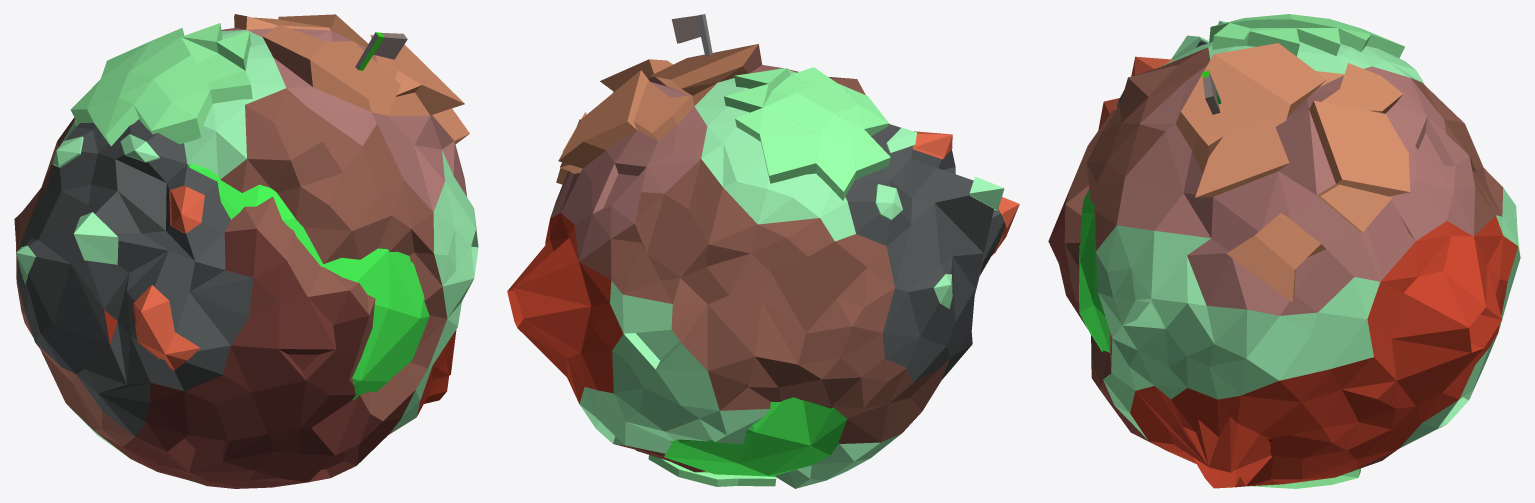
File: planet2b.fbx
The picture shows the model from 3 angles, left to right: view 1: azimuth 30°, elevation 25°; view 2: azimuth 150°, elevation 25°; view 3: azimuth 270°, elevation 25°; orthographic projection. The views are drawn at different scales.
Parts seen in each view (by area): view 1: land, pole, sea, snowcaps, flag; view 2: land, pole, sea, snowcaps, flag; view 3: land, pole, sea, flag.
Part boxes in pixels (<box>): land: <box>14,14,478,488</box>; pole: <box>70,23,252,146</box>; sea: <box>183,163,429,399</box>; snowcaps: <box>16,134,159,283</box>; flag: <box>355,32,407,70</box>; land: <box>507,44,1019,488</box>; pole: <box>648,67,890,486</box>; sea: <box>664,397,847,476</box>; snowcaps: <box>875,127,1004,308</box>; flag: <box>671,14,712,56</box>; land: <box>1048,41,1520,488</box>; pole: <box>1209,14,1404,488</box>; sea: <box>1079,189,1110,352</box>; flag: <box>1202,70,1221,114</box>.
Size of the model in its own units: 1060 by 1050 by 1017.
